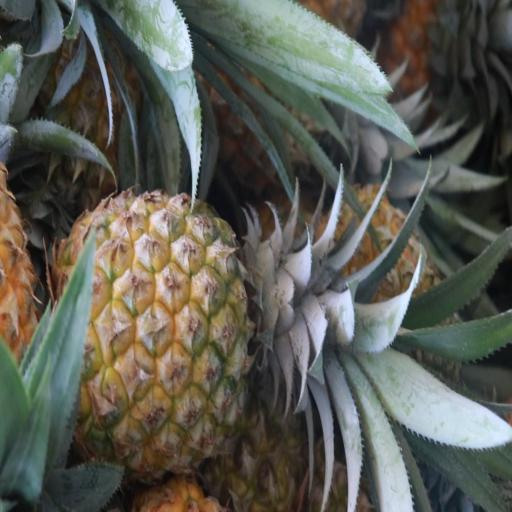Pineapple - v8 v1: (59, 186, 268, 466)
